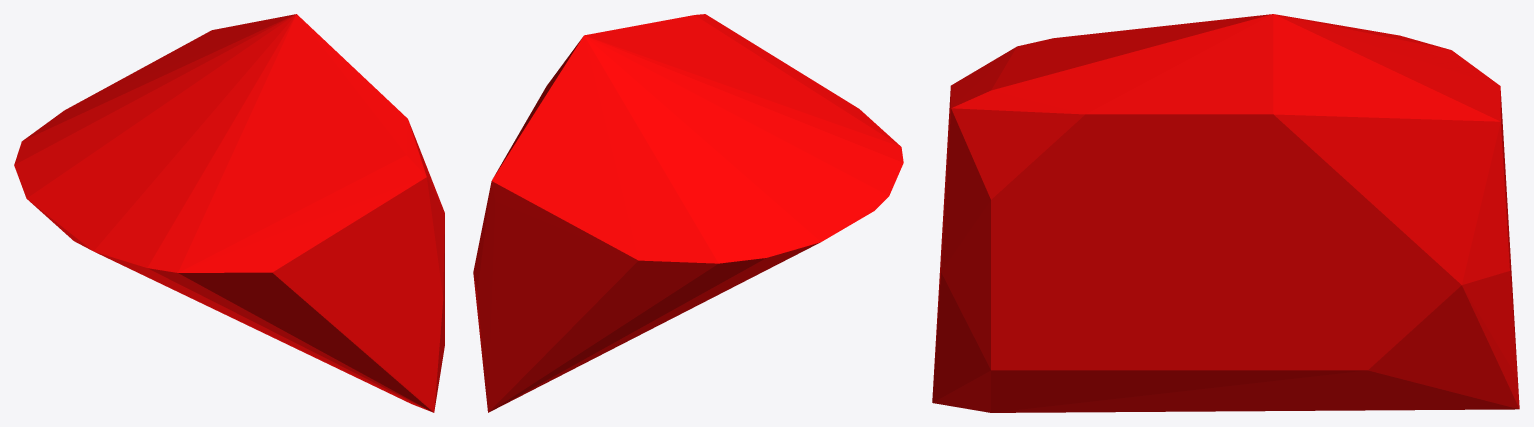
File: tip_006_1_convex_hull_07.obj
3 views of the same model, side by side, from view 1: azimuth 30°, elevation 25°; view 2: azimuth 150°, elevation 25°; view 3: azimuth 270°, elevation 25° (orthographic). The views are drawn at different scales.
Parts seen in each view (by area): view 1: tip_006_1_convex_hull_07; view 2: tip_006_1_convex_hull_07; view 3: tip_006_1_convex_hull_07.
Part boxes in pixels (box(x1,y1,x2,y2)): tip_006_1_convex_hull_07: box(14, 14, 444, 412); tip_006_1_convex_hull_07: box(473, 14, 903, 412); tip_006_1_convex_hull_07: box(932, 14, 1519, 412).
Size of the model in its own units: 0.00139 by 0.00139 by 0.00187.
